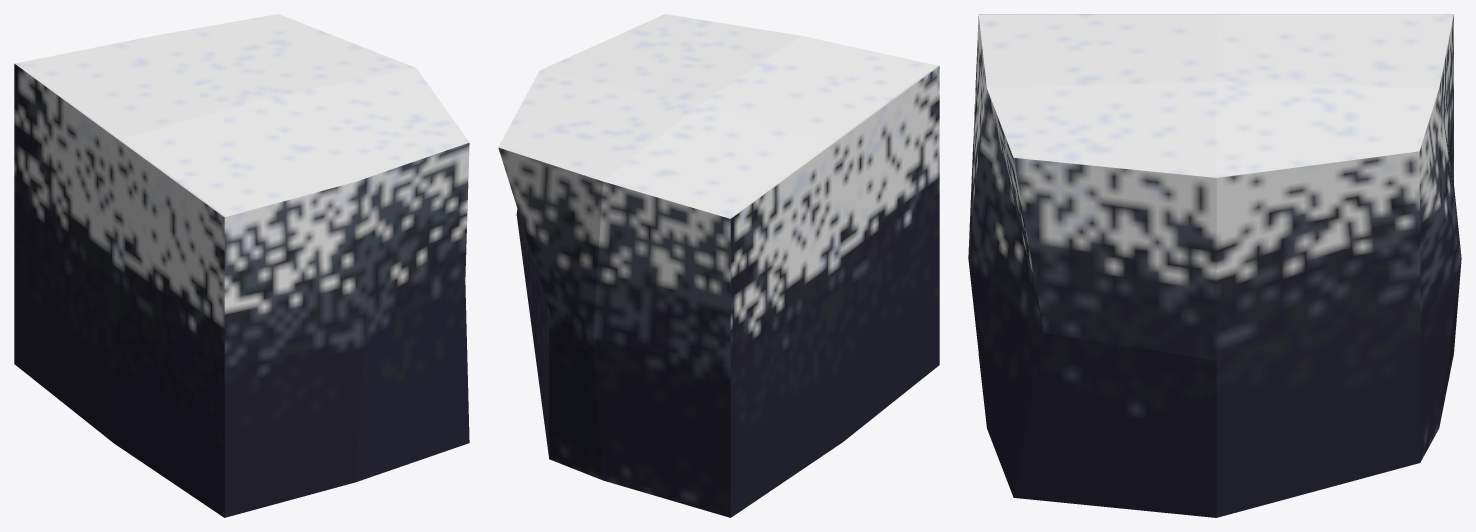
The model's file is Cliffs_03.obj.
The picture shows the model from 3 angles, left to right: view 1: azimuth 30°, elevation 25°; view 2: azimuth 150°, elevation 25°; view 3: azimuth 270°, elevation 25°; orthographic projection. The views are drawn at different scales.
Parts seen in each view (by area): view 1: Cube; view 2: Cube; view 3: Cube.
Part boxes in pixels (bbox=[...]): Cube: bbox=[14, 14, 469, 517]; Cube: bbox=[498, 14, 939, 517]; Cube: bbox=[968, 14, 1461, 517].
Bounding box in the file's own units: 2.28 × 2.04 × 2.63.
